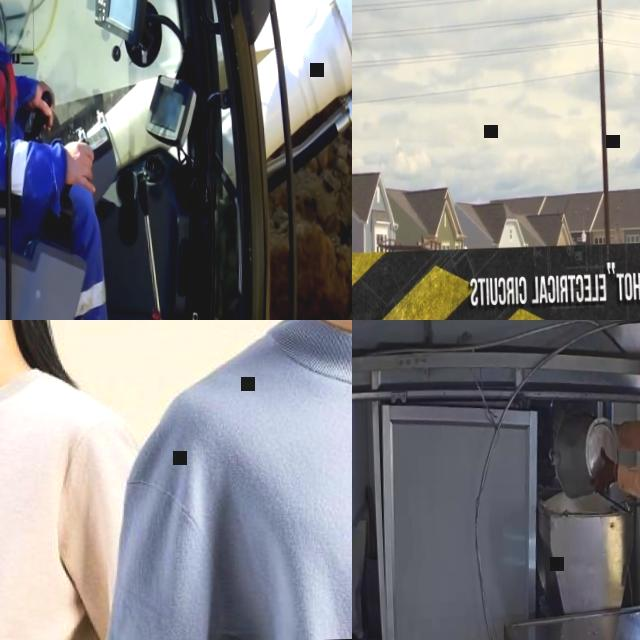machinery: (0, 0, 352, 320)
no_vest: (213, 329, 352, 640), (0, 381, 99, 640)
person: (84, 320, 352, 640), (0, 320, 151, 640), (0, 0, 111, 320), (585, 320, 640, 640)
vest: (0, 15, 28, 208)
